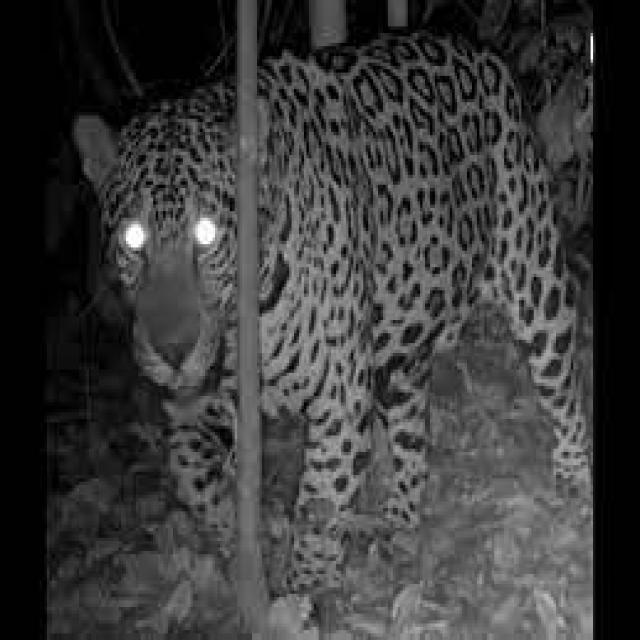Jaguar: (69, 36, 593, 551)
